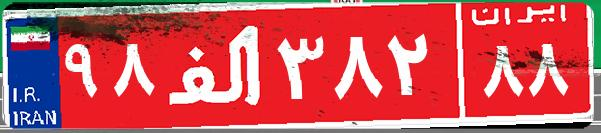2: (385, 28, 445, 110)
3: (273, 28, 330, 110)
8: (330, 28, 385, 110), (475, 38, 525, 113), (110, 28, 158, 105), (525, 38, 570, 115)
9: (57, 26, 110, 107)
الف: (158, 15, 273, 115)
